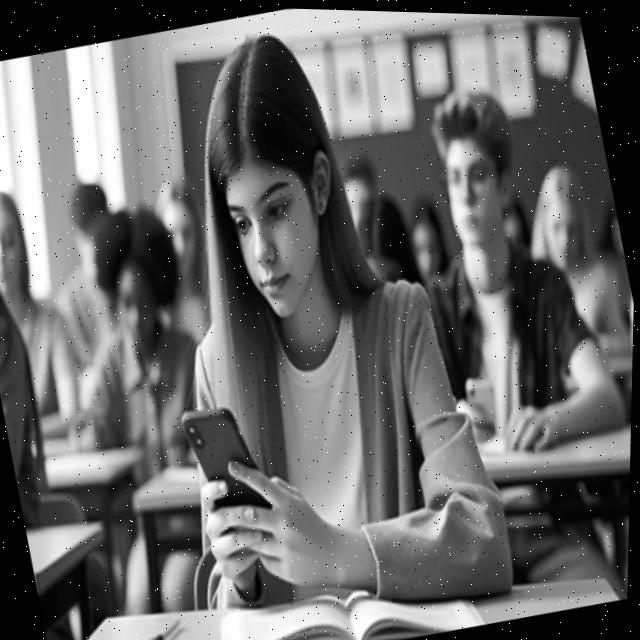phone: (167, 388, 287, 526), (459, 367, 504, 430)
